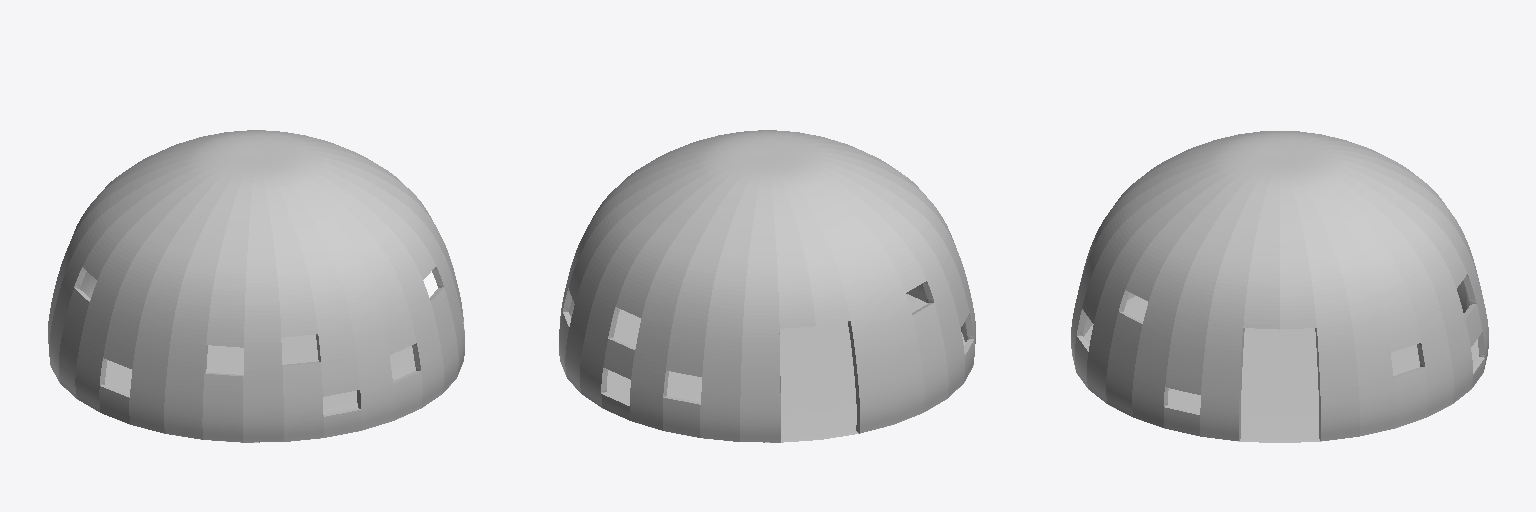
Rendered from House2.obj.
3 renders of one model, left to right at view 1: azimuth 30°, elevation 25°; view 2: azimuth 150°, elevation 25°; view 3: azimuth 270°, elevation 25°, orthographic.
Visible parts, largest first — view 1: BezierCurve, Sphere; view 2: BezierCurve, Sphere; view 3: BezierCurve, Sphere.
Boxes of the visible parts, x1,y1,x2,y2 form: BezierCurve: [48, 130, 464, 442]; Sphere: [50, 334, 462, 442]; BezierCurve: [559, 130, 975, 442]; Sphere: [561, 294, 973, 442]; BezierCurve: [1071, 131, 1488, 440]; Sphere: [1072, 296, 1487, 442].
Bounding box in the file's own units: 40.14 × 21.26 × 40.27.